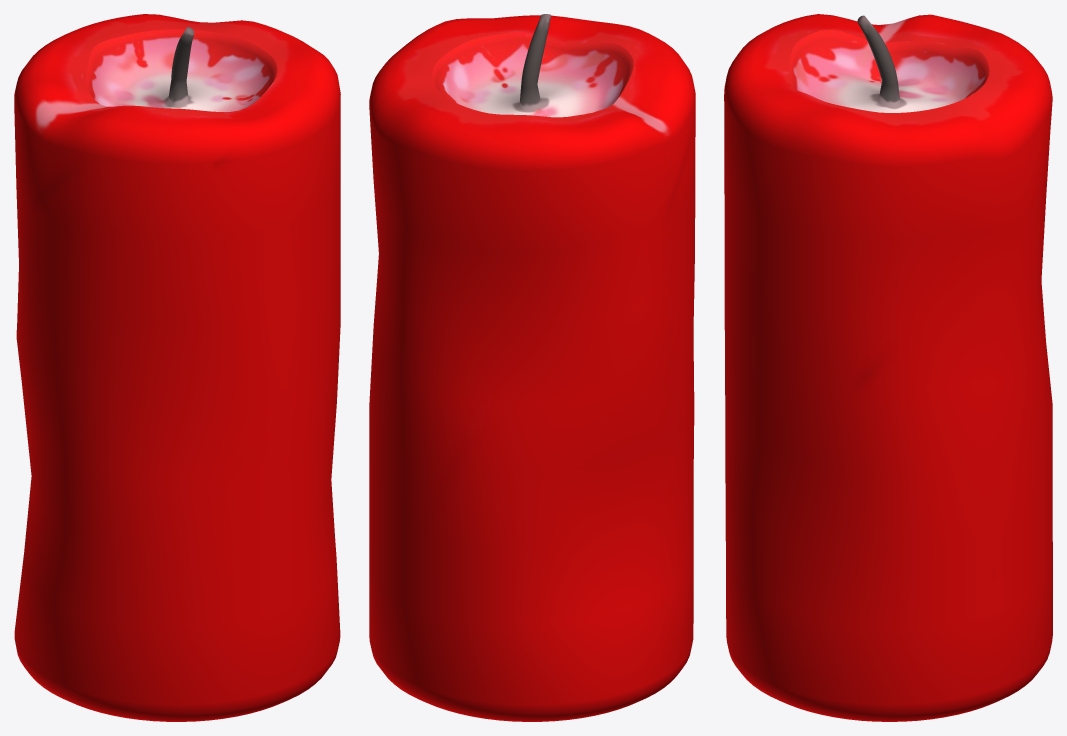
The model's file is candle.fbx.
The picture shows the model from 3 angles, left to right: view 1: azimuth 30°, elevation 25°; view 2: azimuth 150°, elevation 25°; view 3: azimuth 270°, elevation 25°; orthographic projection.
Parts seen in each view (by area): view 1: Cylinder; view 2: Cylinder; view 3: Cylinder.
Part boxes in pixels (x1,y1,x2,y2): Cylinder: (14, 14, 340, 721); Cylinder: (369, 14, 695, 721); Cylinder: (724, 14, 1052, 721).
Bounding box in the file's own units: 100 × 218 × 101.
